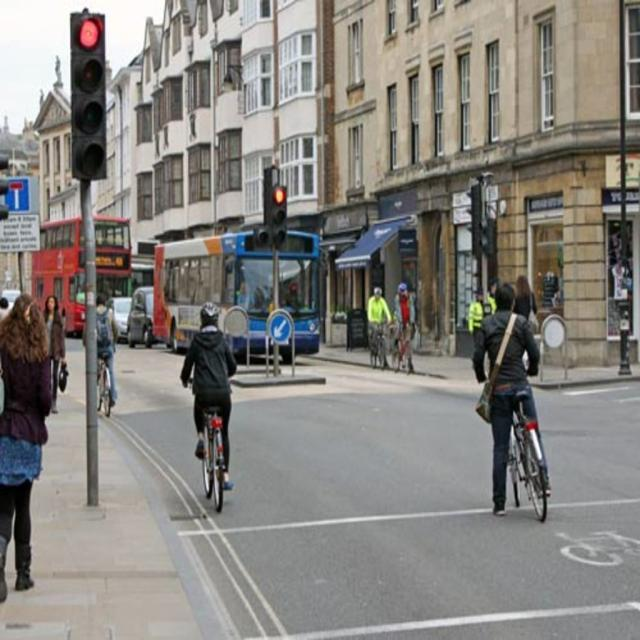traffic light: (69, 13, 108, 180), (270, 185, 288, 247)
